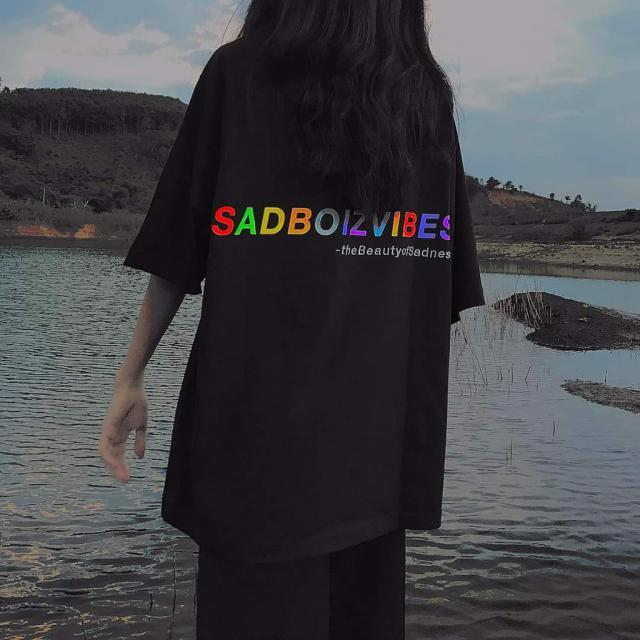Shirt: (124, 28, 492, 548)
